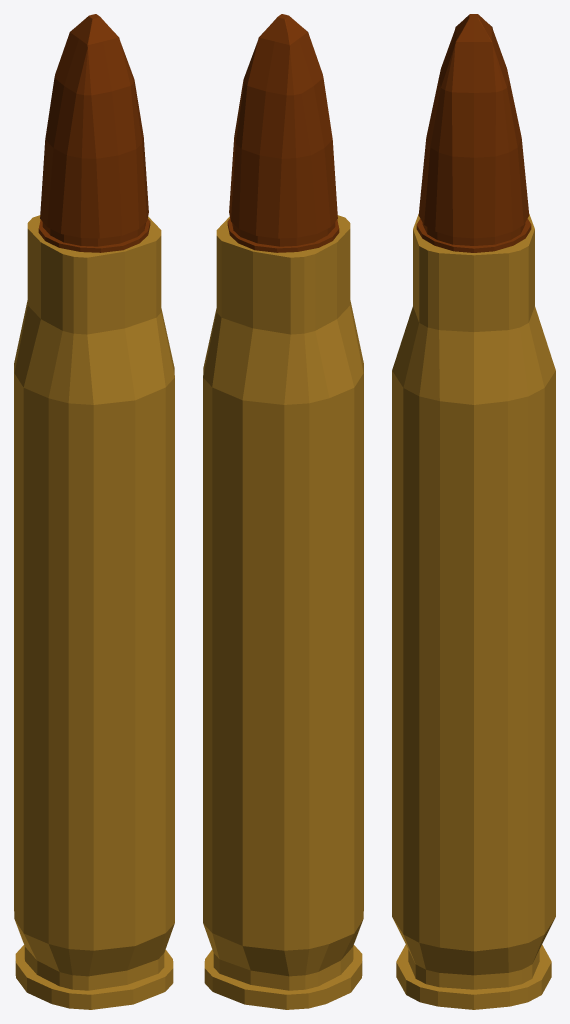
File: model_ammo_556x45mm.glb
3 renders of one model, left to right at view 1: azimuth 30°, elevation 25°; view 2: azimuth 150°, elevation 25°; view 3: azimuth 270°, elevation 25°, orthographic.
Parts seen in each view (by area): view 1: Casing, Bullet; view 2: Casing, Bullet; view 3: Casing, Bullet.
Part boxes in pixels (<box>): Casing: <box>14,215,174,1009</box>; Bullet: <box>38,14,150,252</box>; Casing: <box>203,215,363,1009</box>; Bullet: <box>227,14,339,252</box>; Casing: <box>392,214,555,1009</box>; Bullet: <box>416,14,531,252</box>.
Bounding box in the file's own units: 0.0721 × 0.4664 × 0.0721.
1 material, 1 textured.
